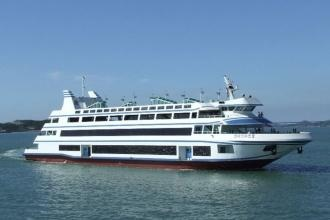yacht: (20, 72, 311, 165)
